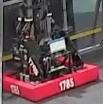red_number: (56, 76, 76, 94), (8, 83, 23, 96)
